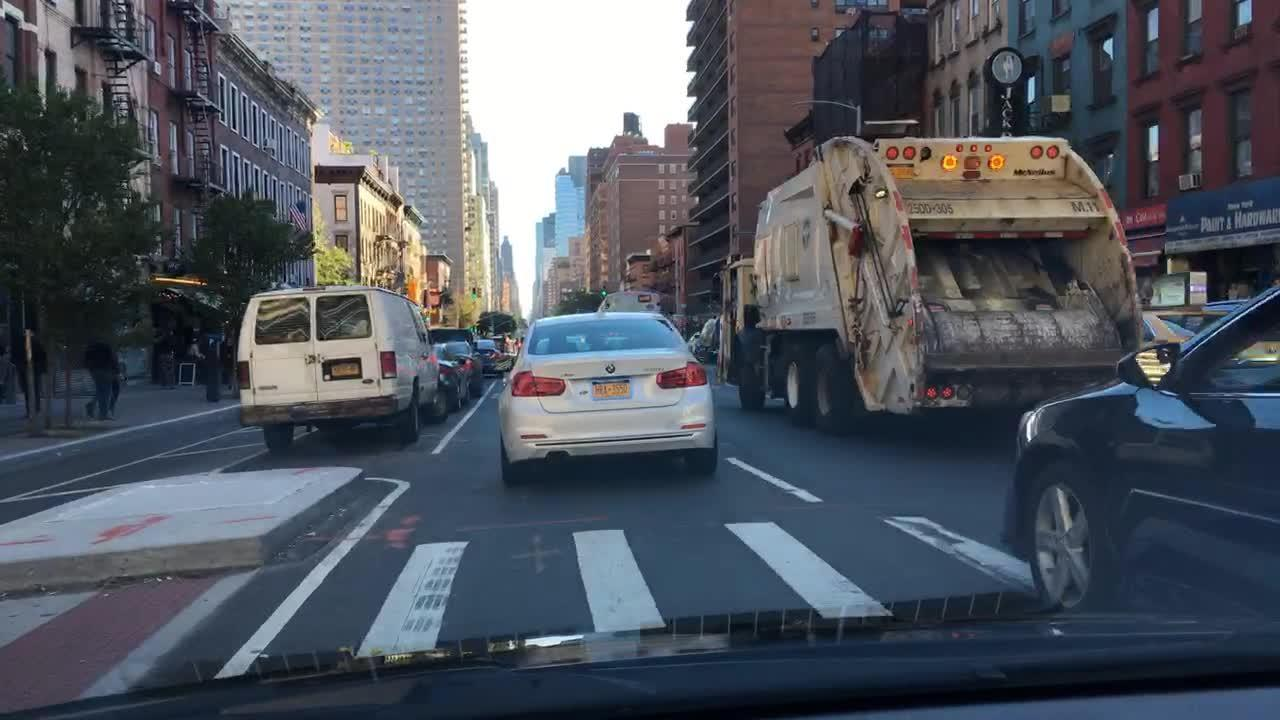bmw: (599, 358, 622, 382)
